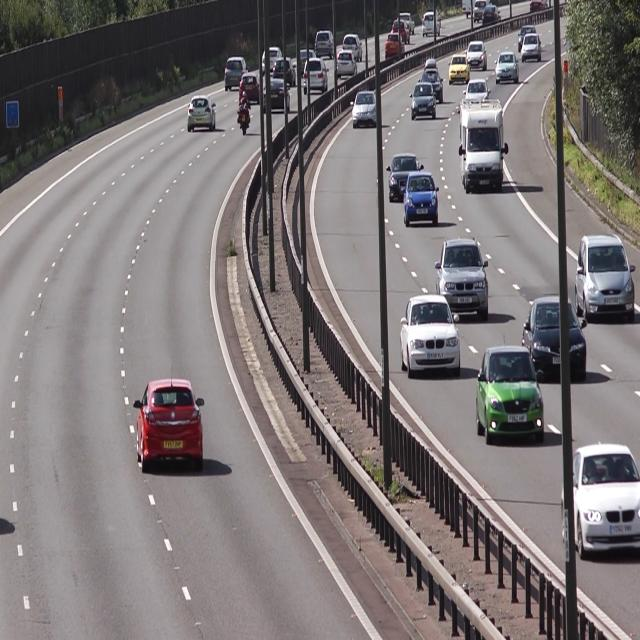Car: (564, 443, 640, 562), (134, 374, 208, 473), (478, 348, 546, 442), (520, 294, 589, 386), (577, 235, 637, 321), (401, 298, 463, 376), (460, 100, 510, 192), (436, 240, 491, 321), (403, 171, 441, 223), (384, 155, 424, 201), (184, 95, 219, 132), (421, 57, 446, 106), (351, 88, 380, 130), (408, 81, 437, 122), (262, 75, 290, 116), (492, 51, 522, 87), (223, 57, 251, 93), (448, 48, 471, 89), (304, 59, 330, 94), (466, 37, 490, 71), (239, 73, 262, 106), (521, 34, 544, 63)
